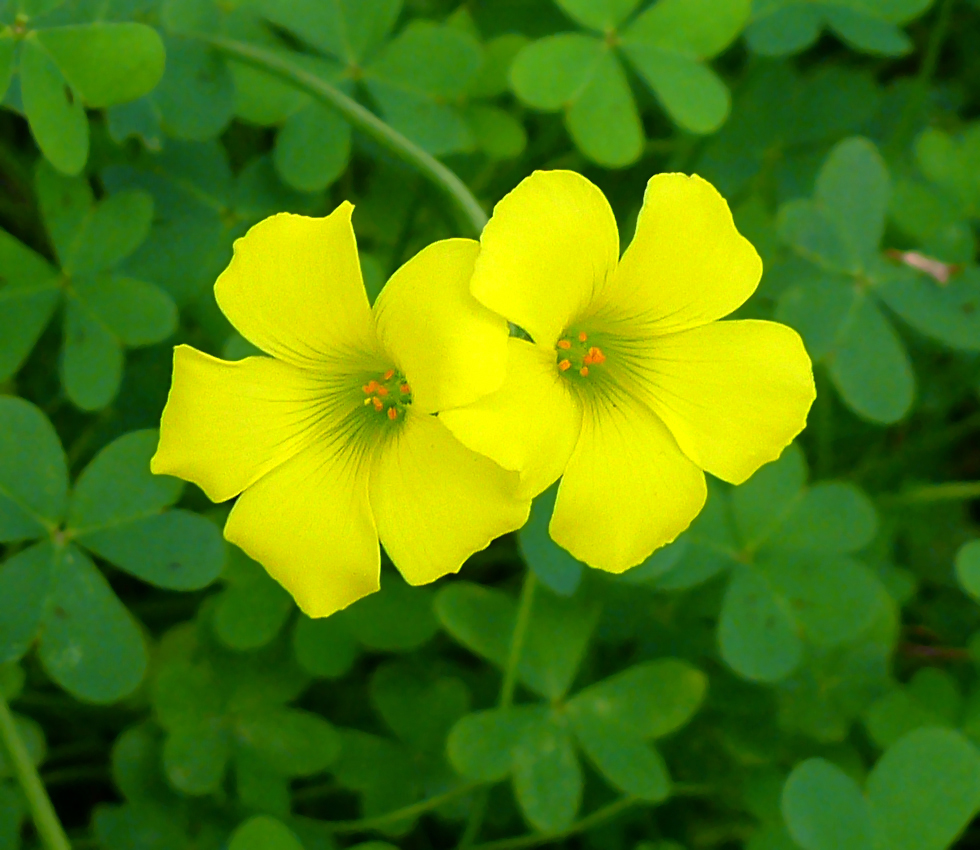oxalis: (41, 70, 980, 617), (97, 572, 980, 845), (19, 13, 506, 189)
